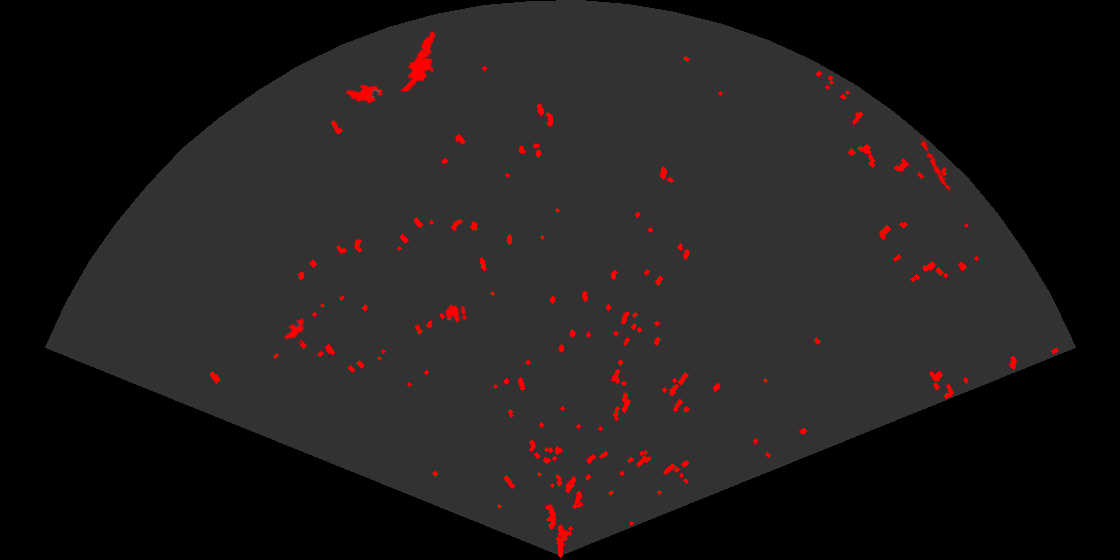AUV: (344, 83, 385, 105), (283, 317, 306, 344)
ball: (444, 303, 469, 324)
chain: (917, 137, 953, 196)
frogman: (399, 29, 437, 91)
